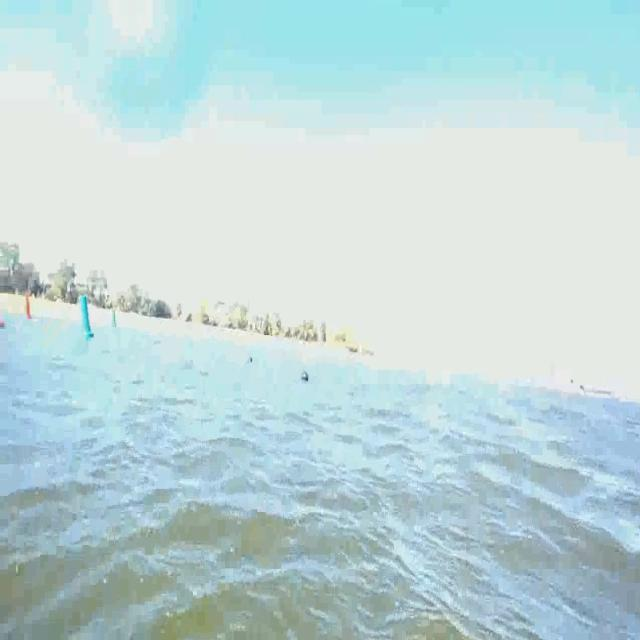blue-buoy: (76, 290, 98, 346)
green-column-buoy: (110, 302, 120, 329)
red-column-buoy: (22, 286, 35, 321)
